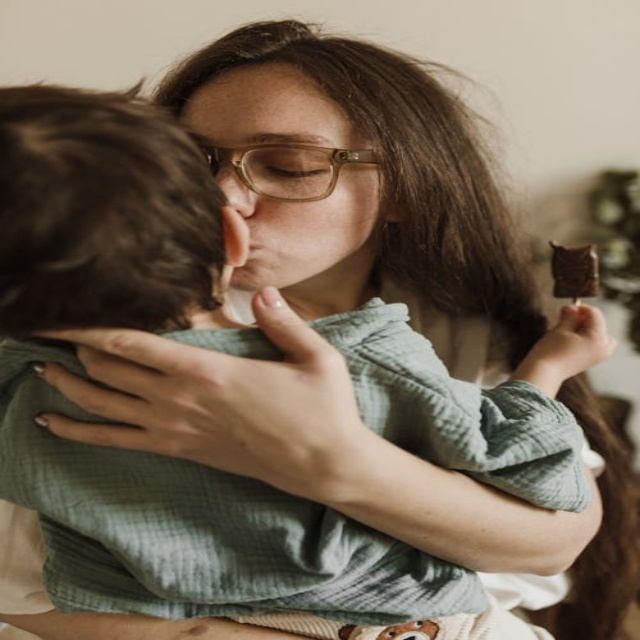Gafas: (196, 142, 384, 199)
Sin_guantes: (36, 293, 365, 479), (541, 301, 617, 373)
